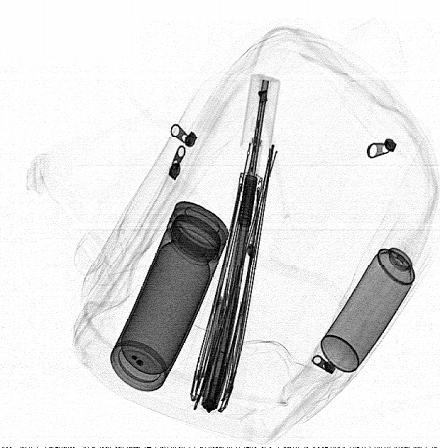Sprayer: (321, 218, 434, 372)
